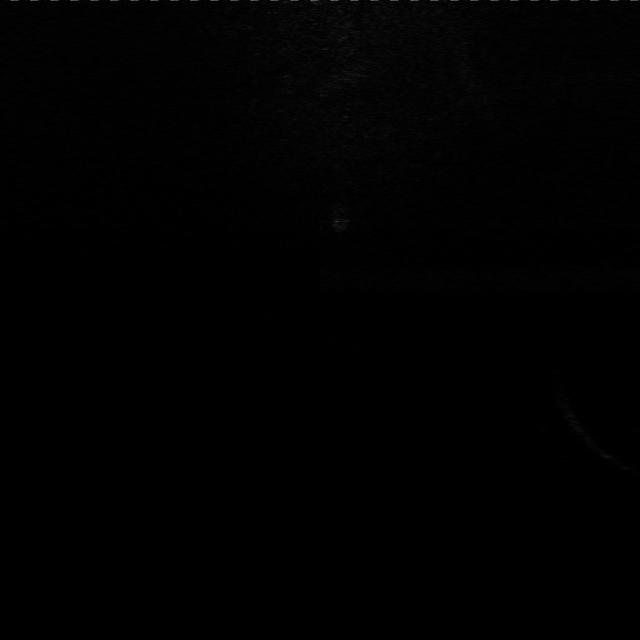circle cage: (321, 197, 357, 237)
